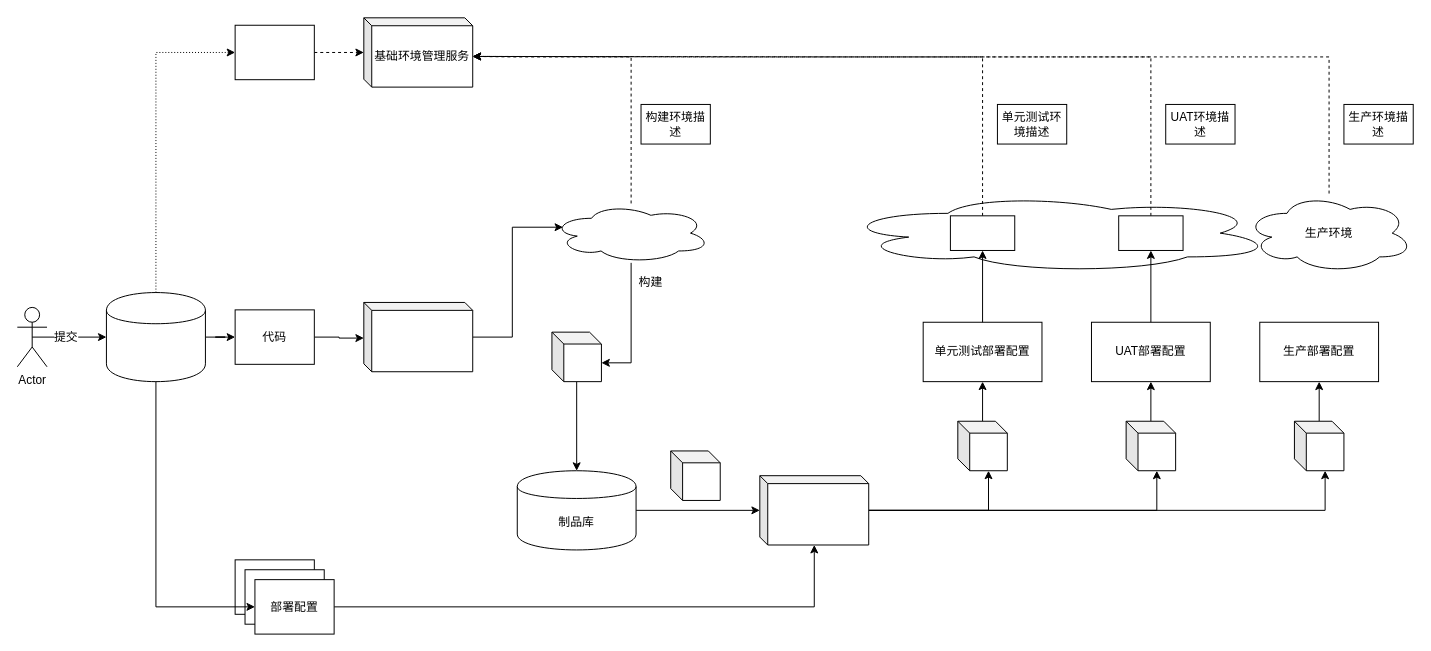
This 1431x651 diagram has some shape labels left out. The shapes that lost their labels are listed below. From the top down, each one's box as (x1, y1, x2, y2) in pixels, then its label:
(234, 24, 314, 80): 环境描述
(551, 202, 710, 263): 构建环境
(949, 215, 1015, 250): 单元测试环境
(1118, 215, 1183, 250): UAT环境
(105, 292, 205, 382): 代码仓库
(363, 301, 473, 372): 构建管理服务
(759, 475, 869, 545): 部署管理服务
